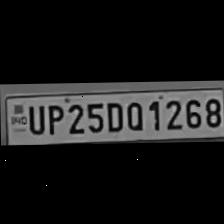1: (144, 97, 162, 130)
2: (63, 100, 83, 134), (161, 96, 181, 130)
5: (84, 98, 104, 132)
6: (181, 94, 201, 127)
8: (200, 94, 222, 128)
D: (103, 97, 123, 130)
P: (43, 100, 62, 134)
Q: (123, 97, 145, 130)
U: (24, 102, 44, 134)
